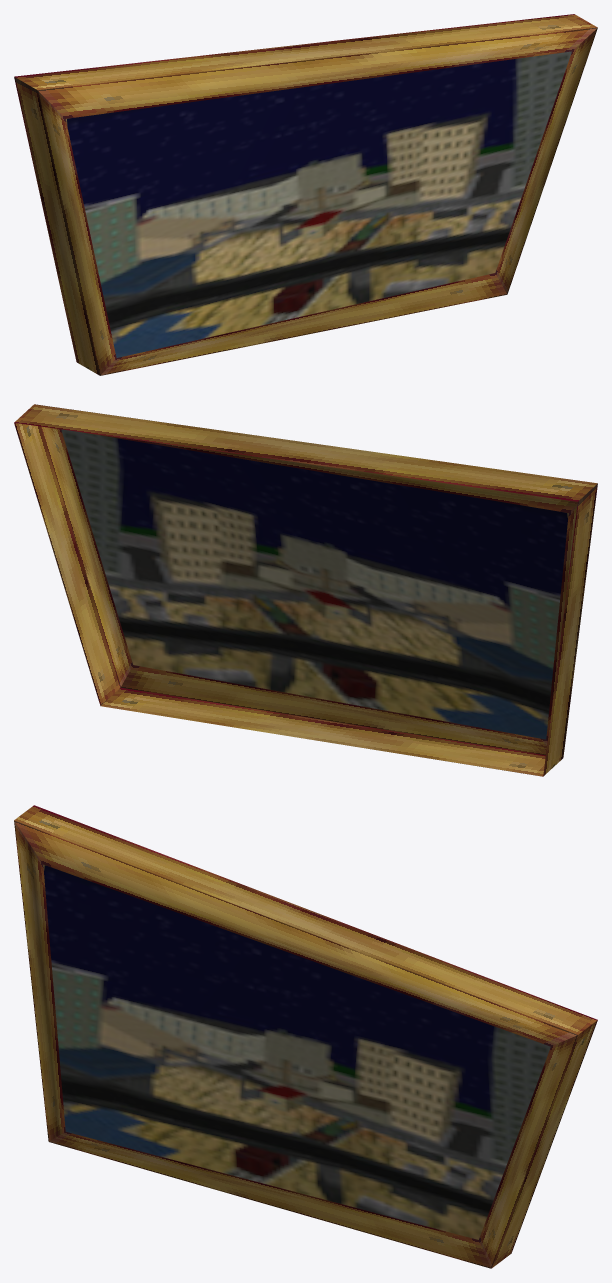
Rendered from Urban_DownTown_Sign.FBX.
3 views of the same model, one above another, from view 1: azimuth 30°, elevation 25°; view 2: azimuth 150°, elevation 25°; view 3: azimuth 330°, elevation 25° (orthographic). The views are drawn at different scales.
Parts seen in each view (by area): view 1: sign; view 2: sign; view 3: sign.
Boxes of the visible parts, box(x1,y1,x2,y2) form: sign: box(14, 14, 597, 375); sign: box(14, 404, 597, 776); sign: box(14, 805, 597, 1268).
Bounding box in the file's own units: 349 × 190 × 39.45.
